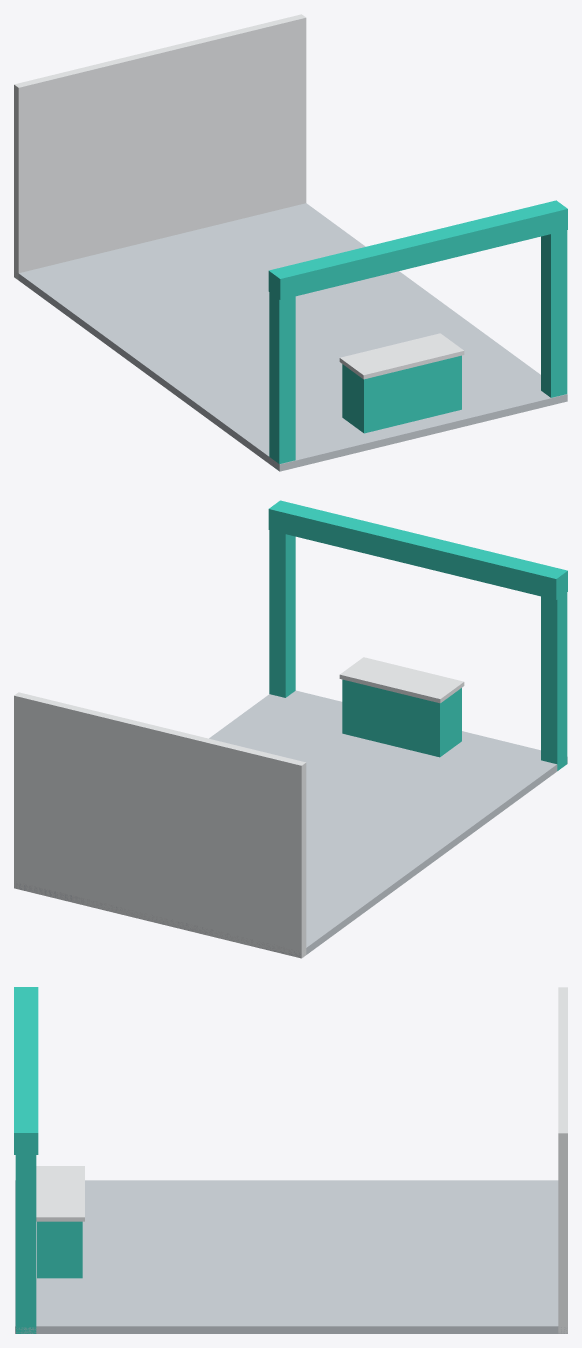
3 views of the same model, one above another, from view 1: azimuth 30°, elevation 25°; view 2: azimuth 150°, elevation 25°; view 3: azimuth 270°, elevation 25° (orthographic). The views are drawn at different scales.
Visible parts, largest first — view 1: Exhibition Booth Concept; view 2: Exhibition Booth Concept; view 3: Exhibition Booth Concept.
Part boxes in pixels (x1,y1,x2,y2): Exhibition Booth Concept: (14, 14, 567, 471); Exhibition Booth Concept: (14, 500, 567, 958); Exhibition Booth Concept: (14, 987, 567, 1333).
Size of the model in its own units: 5 by 3.2 by 8.01.
